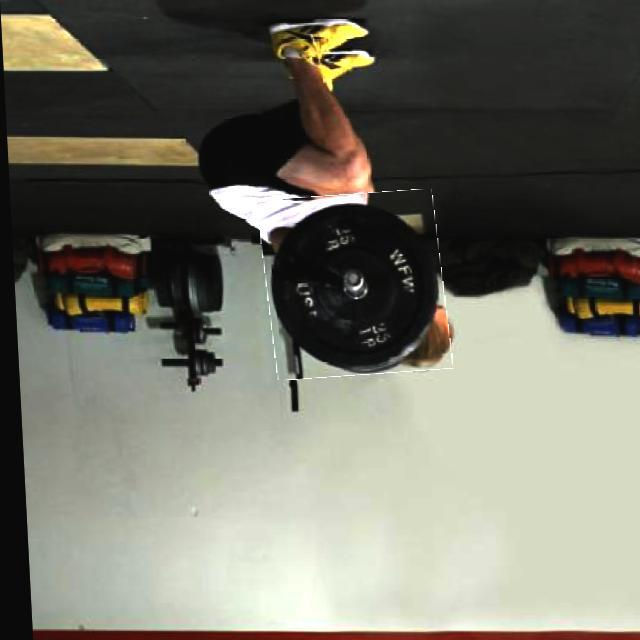barbell: (258, 193, 448, 378)
